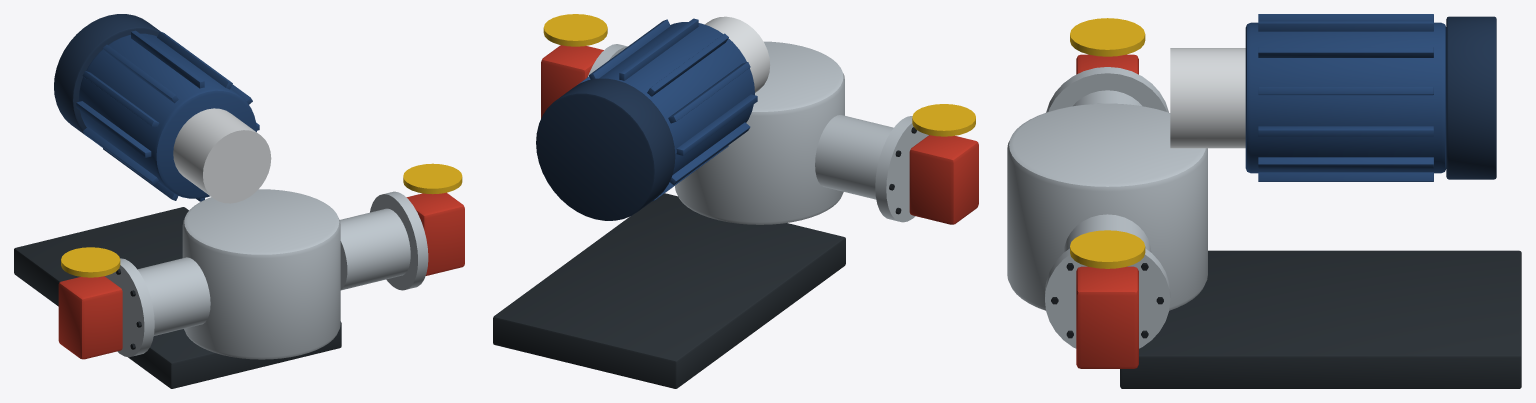
The model's file is pump.glb.
The picture shows the model from 3 angles, left to right: view 1: azimuth 30°, elevation 25°; view 2: azimuth 150°, elevation 25°; view 3: azimuth 270°, elevation 25°; orthographic projection. The views are drawn at different scales.
Parts seen in each view (by area): view 1: pumpset; view 2: pumpset; view 3: pumpset.
Boxes of the visible parts, <box> form: pumpset: <box>14,14,464,388</box>; pumpset: <box>493,14,978,388</box>; pumpset: <box>1007,14,1521,388</box>.
Size of the model in its own units: 4.6 by 2.77 by 4.1.
